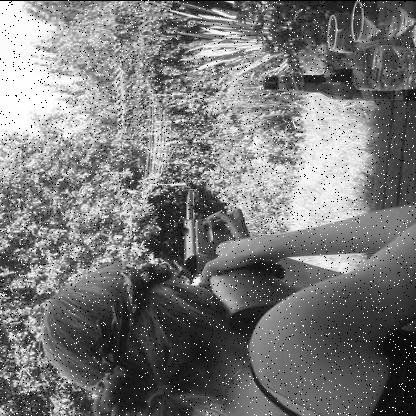rifle: (179, 170, 297, 329)
